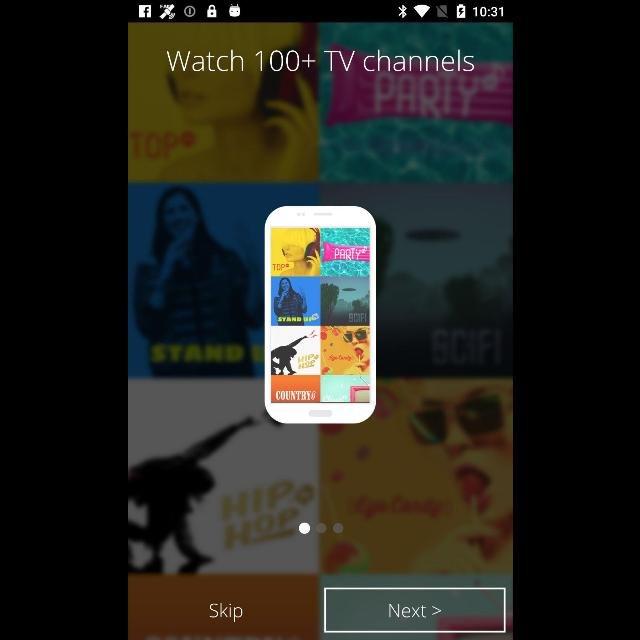backgroundimage: (128, 22, 512, 640)
image: (264, 206, 376, 424)
pageindicator: (298, 522, 344, 534)
text: (166, 50, 474, 72), (208, 602, 242, 622)
textbutton: (323, 588, 504, 632)
uppertaskbar: (128, 1, 512, 23)
